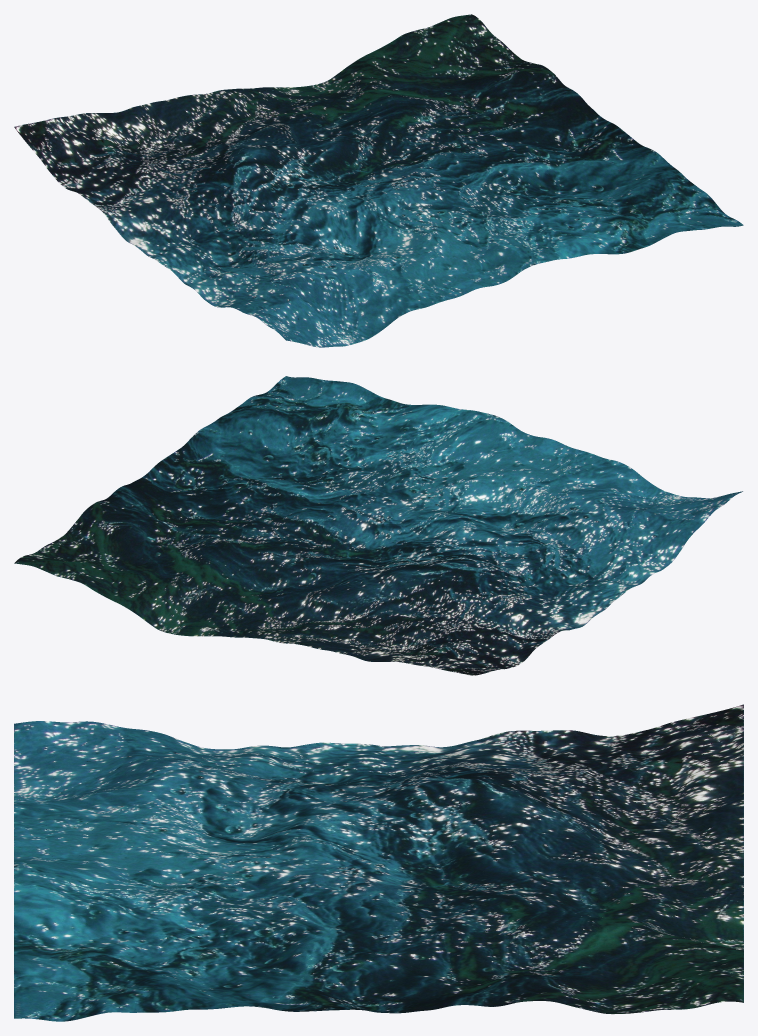
Rendered from Deniz.fbx.
3 views of the same model, one above another, from view 1: azimuth 30°, elevation 25°; view 2: azimuth 150°, elevation 25°; view 3: azimuth 270°, elevation 25° (orthographic). The views are drawn at different scales.
Parts seen in each view (by area): view 1: Plane001; view 2: Plane001; view 3: Plane001.
Boxes of the visible parts, <box> form: Plane001: <box>14,14,743,347</box>; Plane001: <box>14,376,742,675</box>; Plane001: <box>14,704,743,1021</box>.
Size of the model in its own units: 182 by 14.67 by 187.
